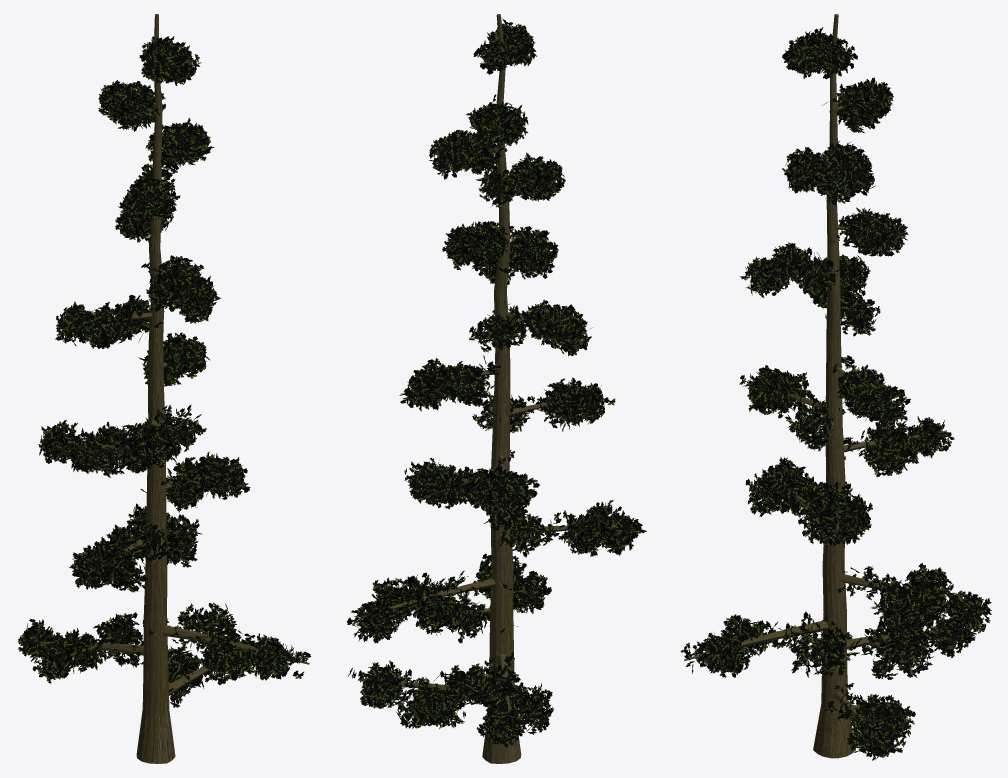
The model's file is spruce_conifer_v03.fbx.
The picture shows the model from 3 angles, left to right: view 1: azimuth 30°, elevation 25°; view 2: azimuth 150°, elevation 25°; view 3: azimuth 270°, elevation 25°; orthographic projection.
Visible parts, largest first — view 1: spruce_conifer_v03; view 2: spruce_conifer_v03; view 3: spruce_conifer_v03.
Part boxes in pixels (x1,y1,x2,y2): spruce_conifer_v03: [18, 14, 310, 763]; spruce_conifer_v03: [347, 14, 646, 763]; spruce_conifer_v03: [680, 14, 991, 760].
Size of the model in its own units: 1108 by 1244 by 3201.
2 materials, 2 textured.
